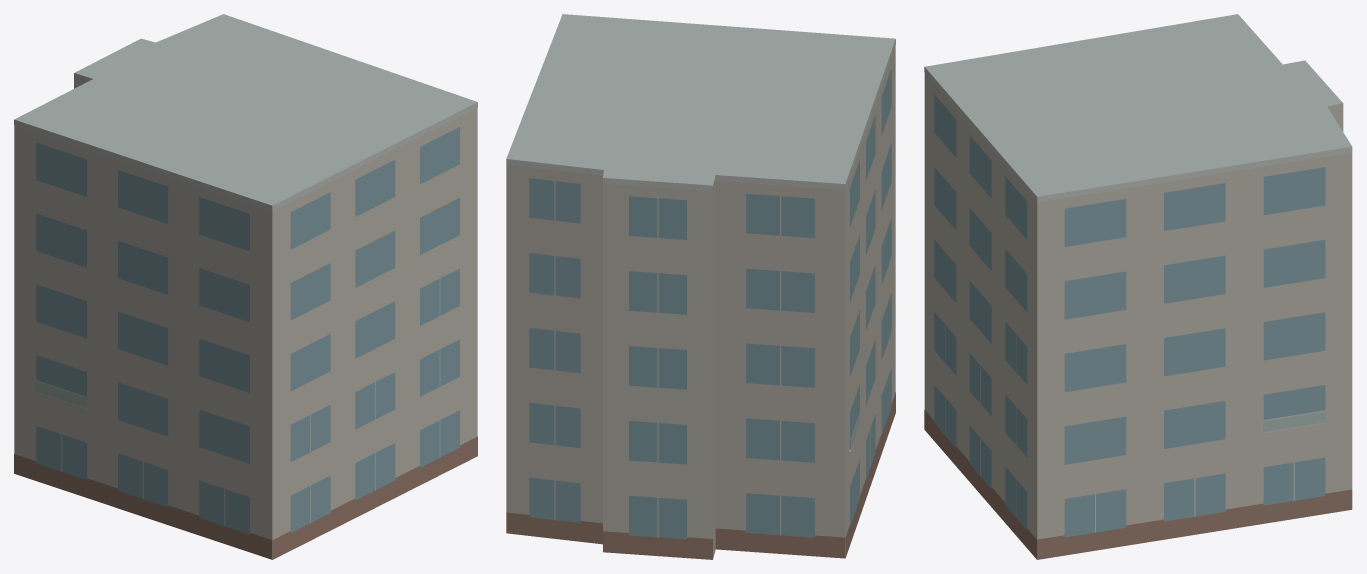
Rendered from survey-upis-32865642.glb.
3 renders of one model, left to right at view 1: azimuth 30°, elevation 25°; view 2: azimuth 150°, elevation 25°; view 3: azimuth 270°, elevation 25°, orthographic. The views are drawn at different scales.
Visible parts, largest first — view 1: survey-upis-32865642.tmp; view 2: survey-upis-32865642.tmp; view 3: survey-upis-32865642.tmp.
Part boxes in pixels (x1,y1,x2,y2): survey-upis-32865642.tmp: [14, 14, 477, 559]; survey-upis-32865642.tmp: [506, 14, 895, 559]; survey-upis-32865642.tmp: [924, 14, 1352, 559].
Size of the model in its own units: 16.89 by 15.62 by 16.69.
